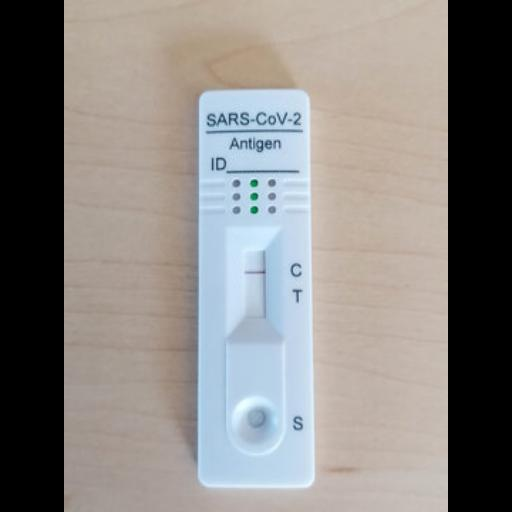Neg: (197, 88, 313, 484)
